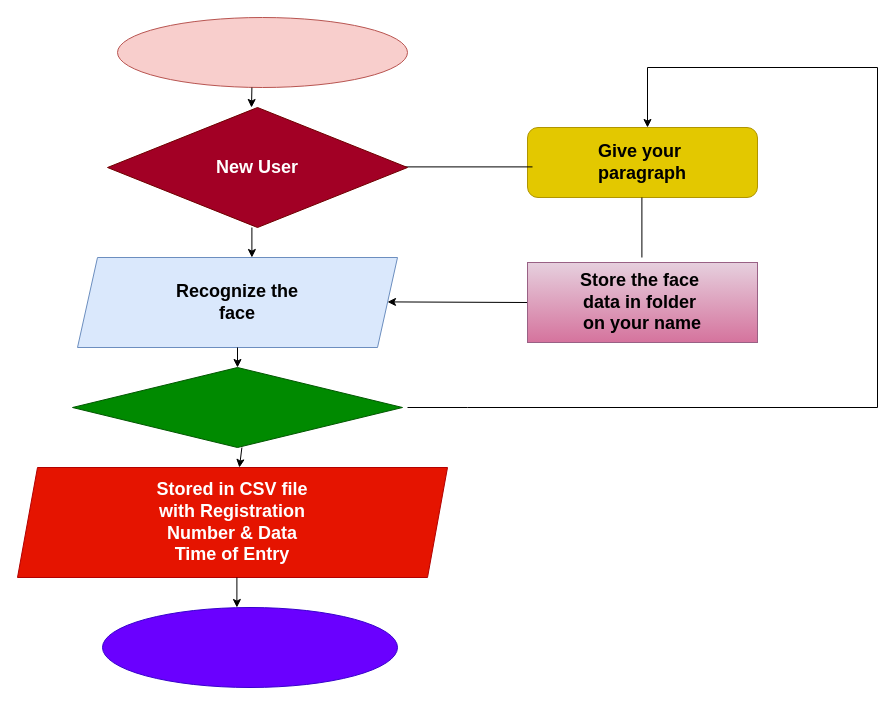
This 896x705 diagram has some shape labels left out. The shapes that lost their labels are listed below. From the top down, each one's box as (x1, y1, x2, y2) in pixels, then its label:
(116, 16, 408, 88): Start
(72, 366, 402, 448): Face Recognize
(102, 606, 398, 688): End
